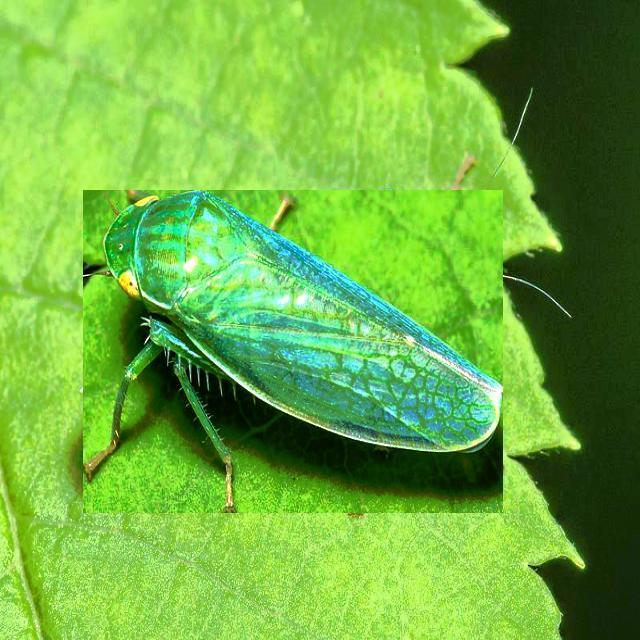green-leafhopper: (83, 191, 503, 513)
